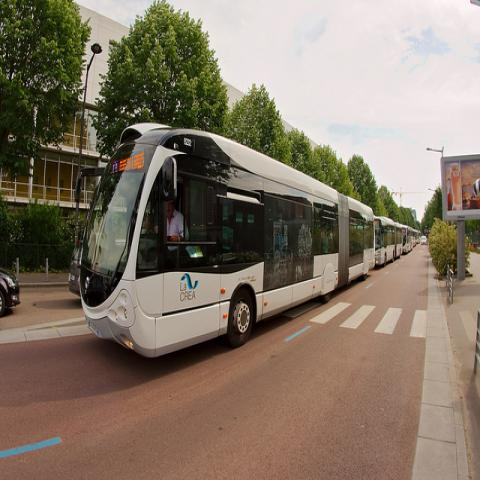bus: (76, 124, 377, 360), (374, 216, 396, 266), (394, 223, 404, 259), (402, 227, 412, 254), (412, 229, 417, 247), (416, 230, 420, 244)
car: (0, 266, 20, 320), (67, 238, 83, 295), (420, 236, 427, 244)
